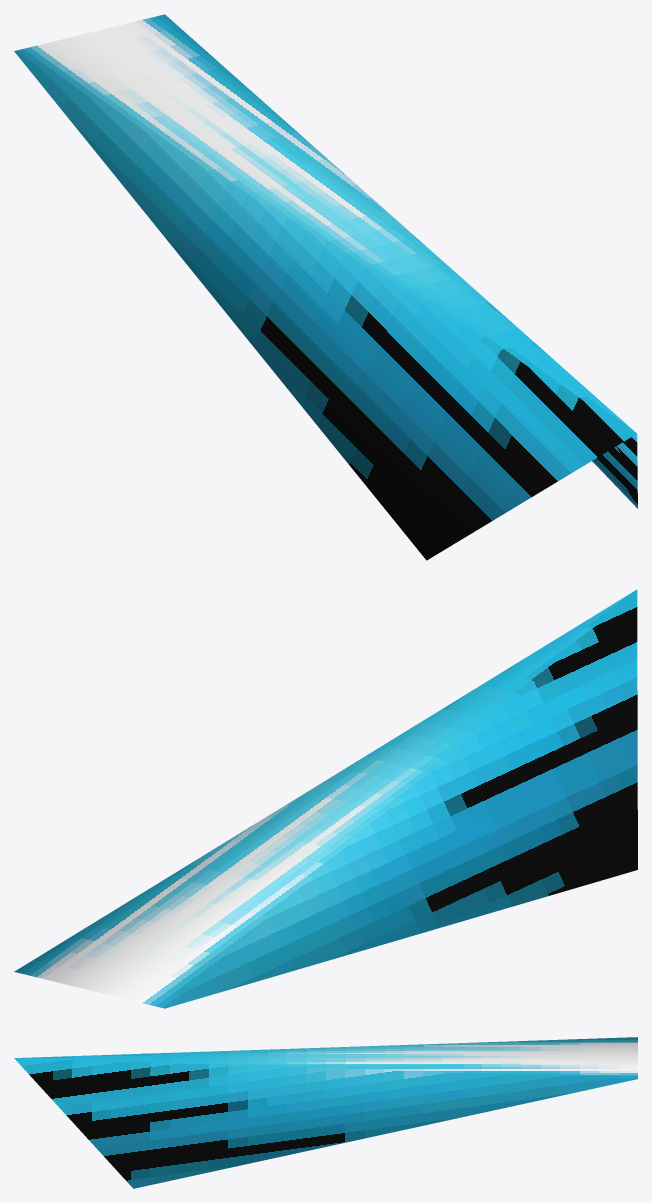
The picture shows the model from 3 angles, top to bottom: view 1: azimuth 30°, elevation 25°; view 2: azimuth 150°, elevation 25°; view 3: azimuth 270°, elevation 25°; orthographic projection. The views are drawn at different scales.
Visible parts, largest first — view 1: 3c99a0ee; view 2: 3c99a0ee; view 3: 3c99a0ee.
Part boxes in pixels (x1,y1,x2,y2): 3c99a0ee: (14,14,637,560); 3c99a0ee: (14,589,637,1008); 3c99a0ee: (14,1037,637,1188).
Bounding box in the file's own units: 2.49 × 2 × 11.16.
1 material, 1 textured.
